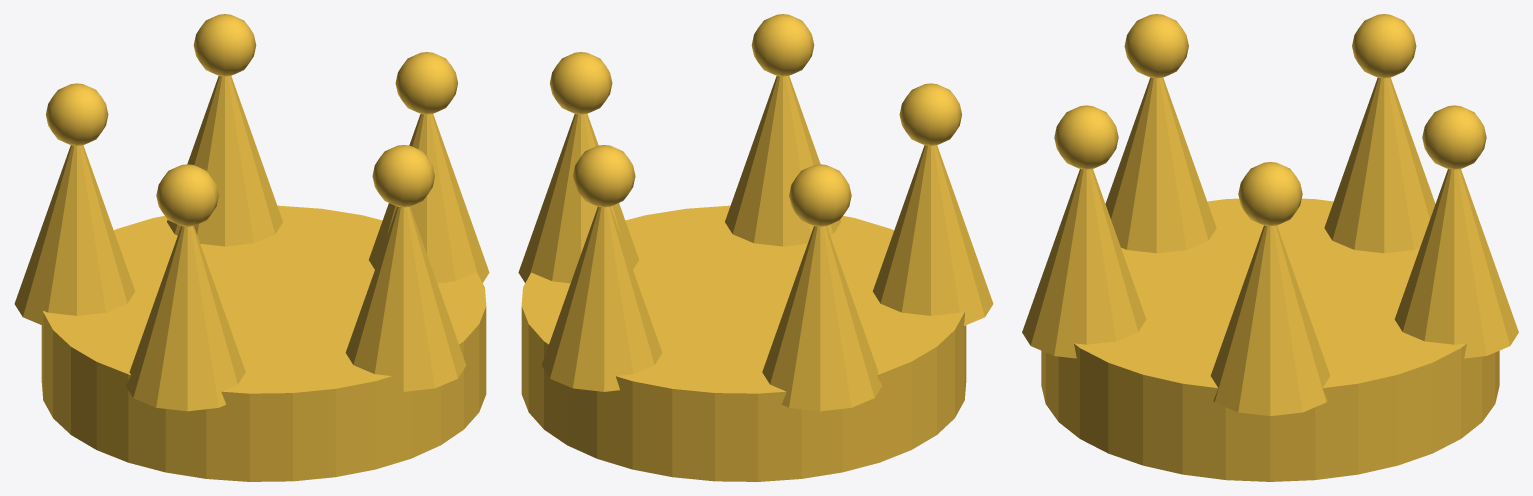
Rendered from couronne.glb.
The picture shows the model from 3 angles, left to right: view 1: azimuth 30°, elevation 25°; view 2: azimuth 150°, elevation 25°; view 3: azimuth 270°, elevation 25°; orthographic projection. The views are drawn at different scales.
Visible parts, largest first — view 1: couronne; view 2: couronne; view 3: couronne.
Boxes of the visible parts, bbox=[...] form: couronne: bbox=[14, 14, 489, 481]; couronne: bbox=[518, 14, 993, 481]; couronne: bbox=[1022, 14, 1518, 481].
Bounding box in the file's own units: 0.68 × 0.465 × 0.6936.
